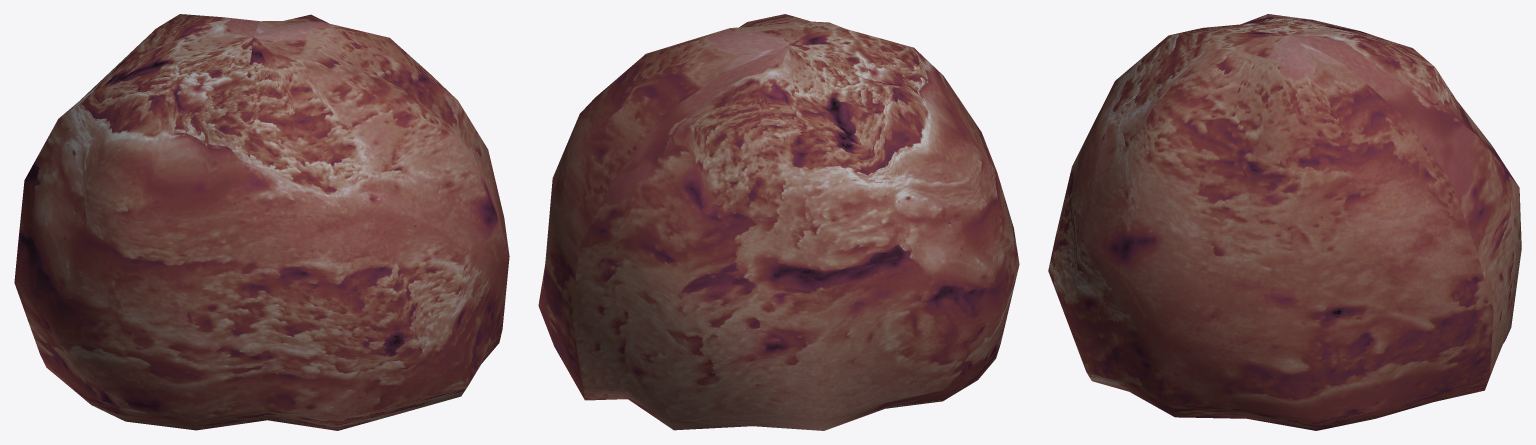
Rendered from Ice cream.obj.
3 renders of one model, left to right at view 1: azimuth 30°, elevation 25°; view 2: azimuth 150°, elevation 25°; view 3: azimuth 270°, elevation 25°, orthographic. The views are drawn at different scales.
Parts seen in each view (by area): view 1: Sphere129; view 2: Sphere129; view 3: Sphere129.
Part boxes in pixels (bbox=[...]): Sphere129: bbox=[14, 14, 509, 430]; Sphere129: bbox=[538, 14, 1019, 430]; Sphere129: bbox=[1048, 14, 1521, 430].
Bounding box in the file's own units: 8.36 × 5.85 × 8.24.
